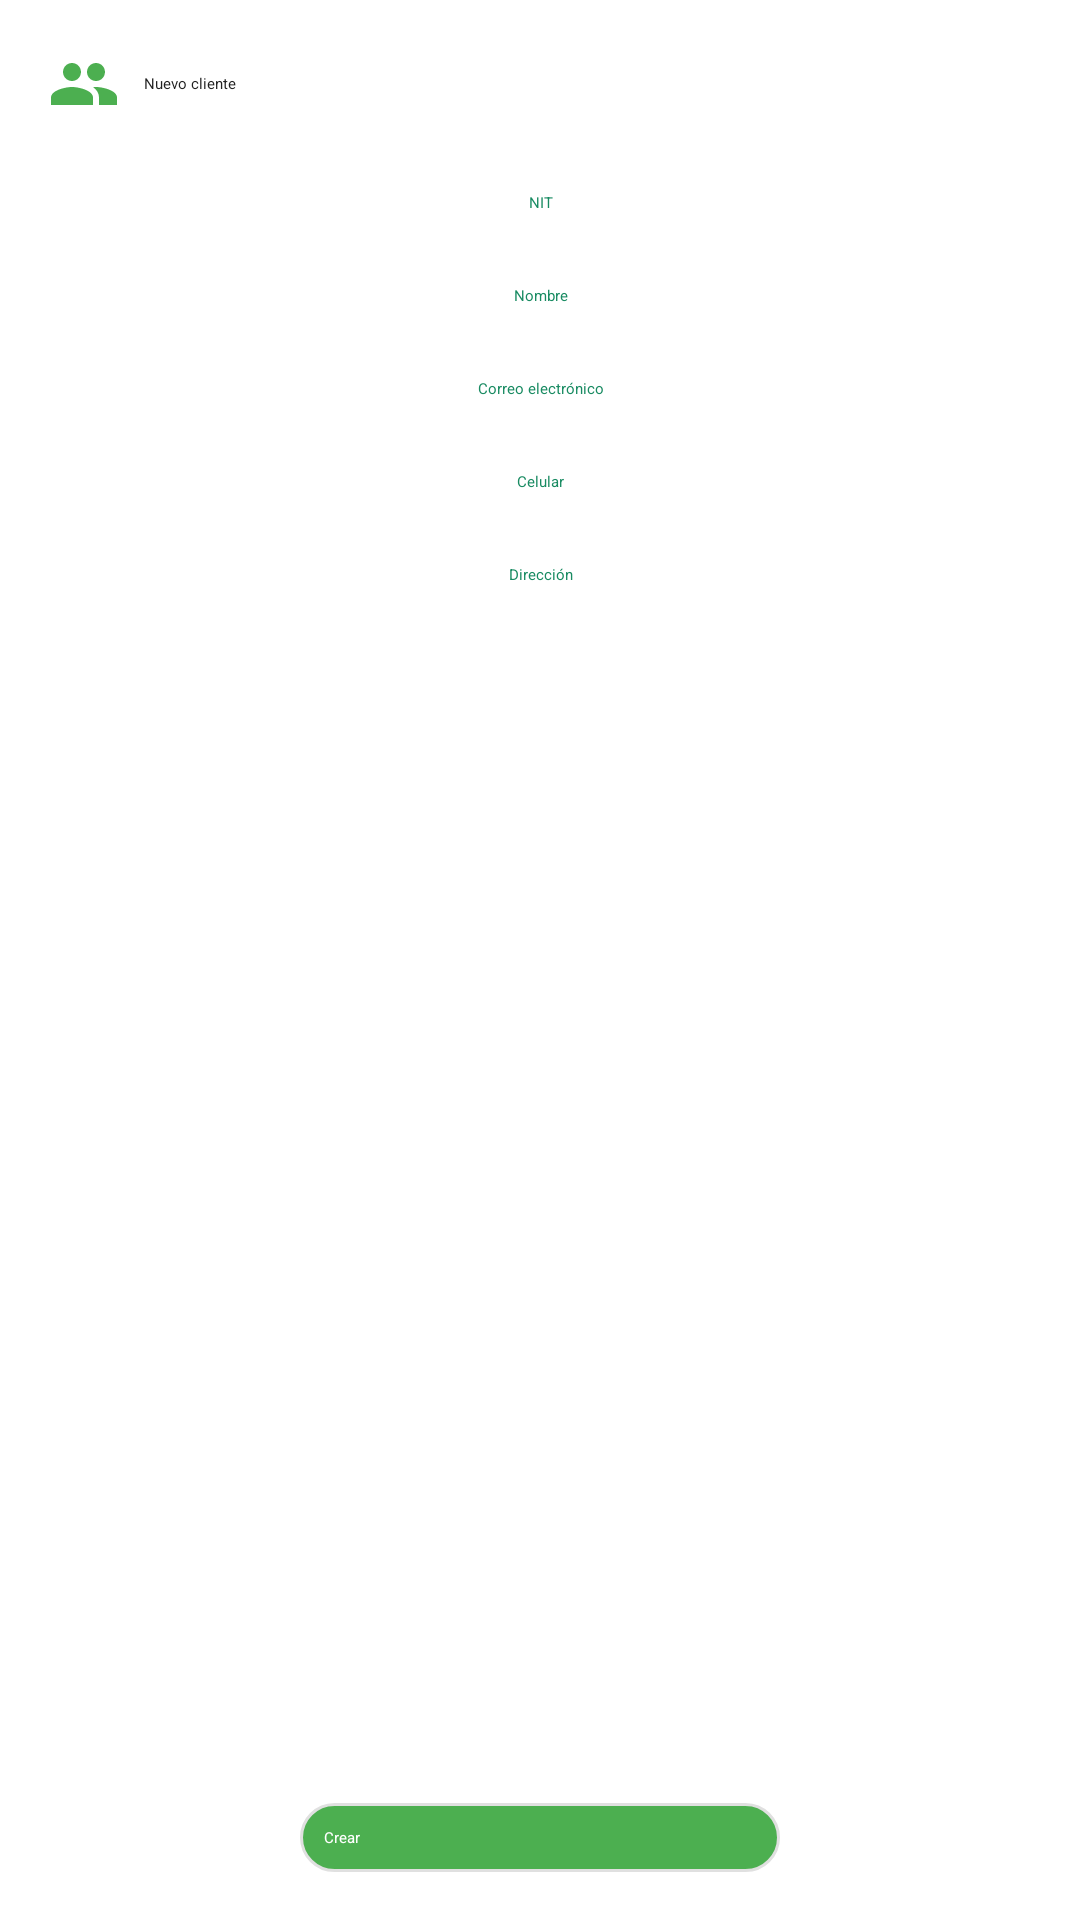

Icons on this 1080px x 1920px Android screen, each with the point to tap as [x,y]:
clientes: [84,84]
